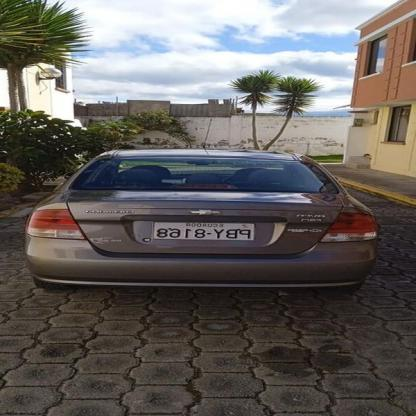Placa: (150, 218, 256, 244)
